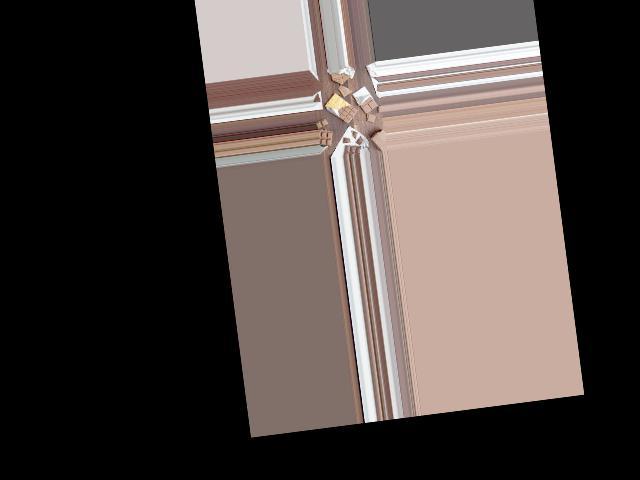chocolate: (351, 86, 380, 115)
